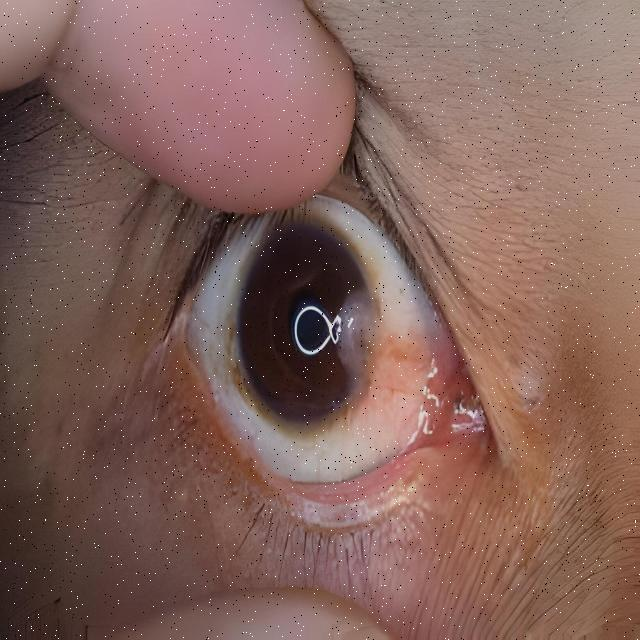Pterygium: (312, 280, 482, 450)
